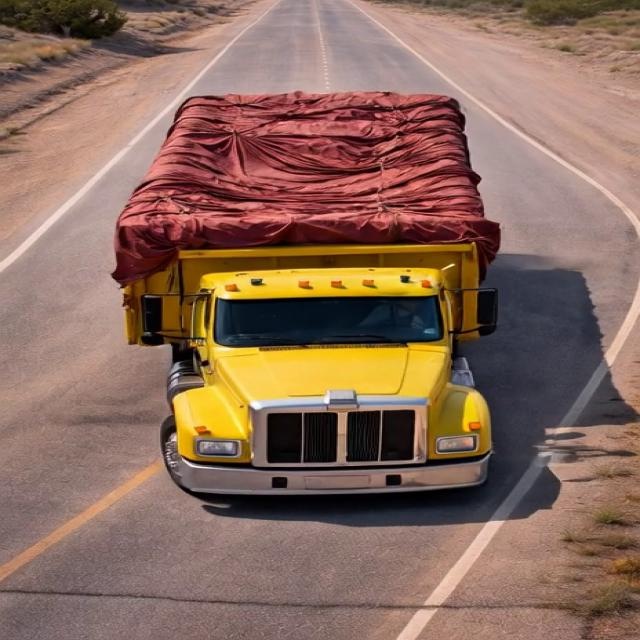trailer: (116, 88, 514, 253)
truck: (93, 80, 566, 510)
